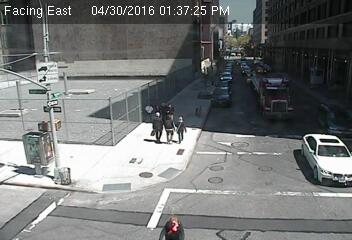neg: (35, 31, 55, 58), (41, 90, 57, 112), (34, 63, 49, 83), (271, 98, 284, 115), (39, 121, 51, 136), (313, 70, 324, 85), (201, 55, 211, 69)
pos: (144, 111, 166, 141), (158, 113, 180, 142), (169, 112, 190, 141), (165, 215, 182, 237)
